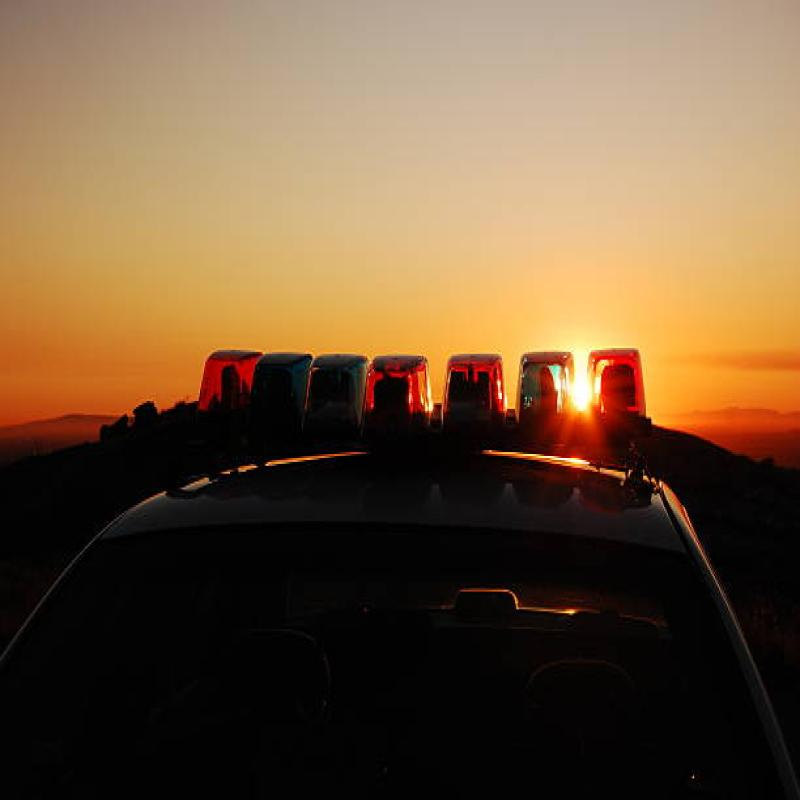AmbulanceSiren: (166, 330, 662, 462)
